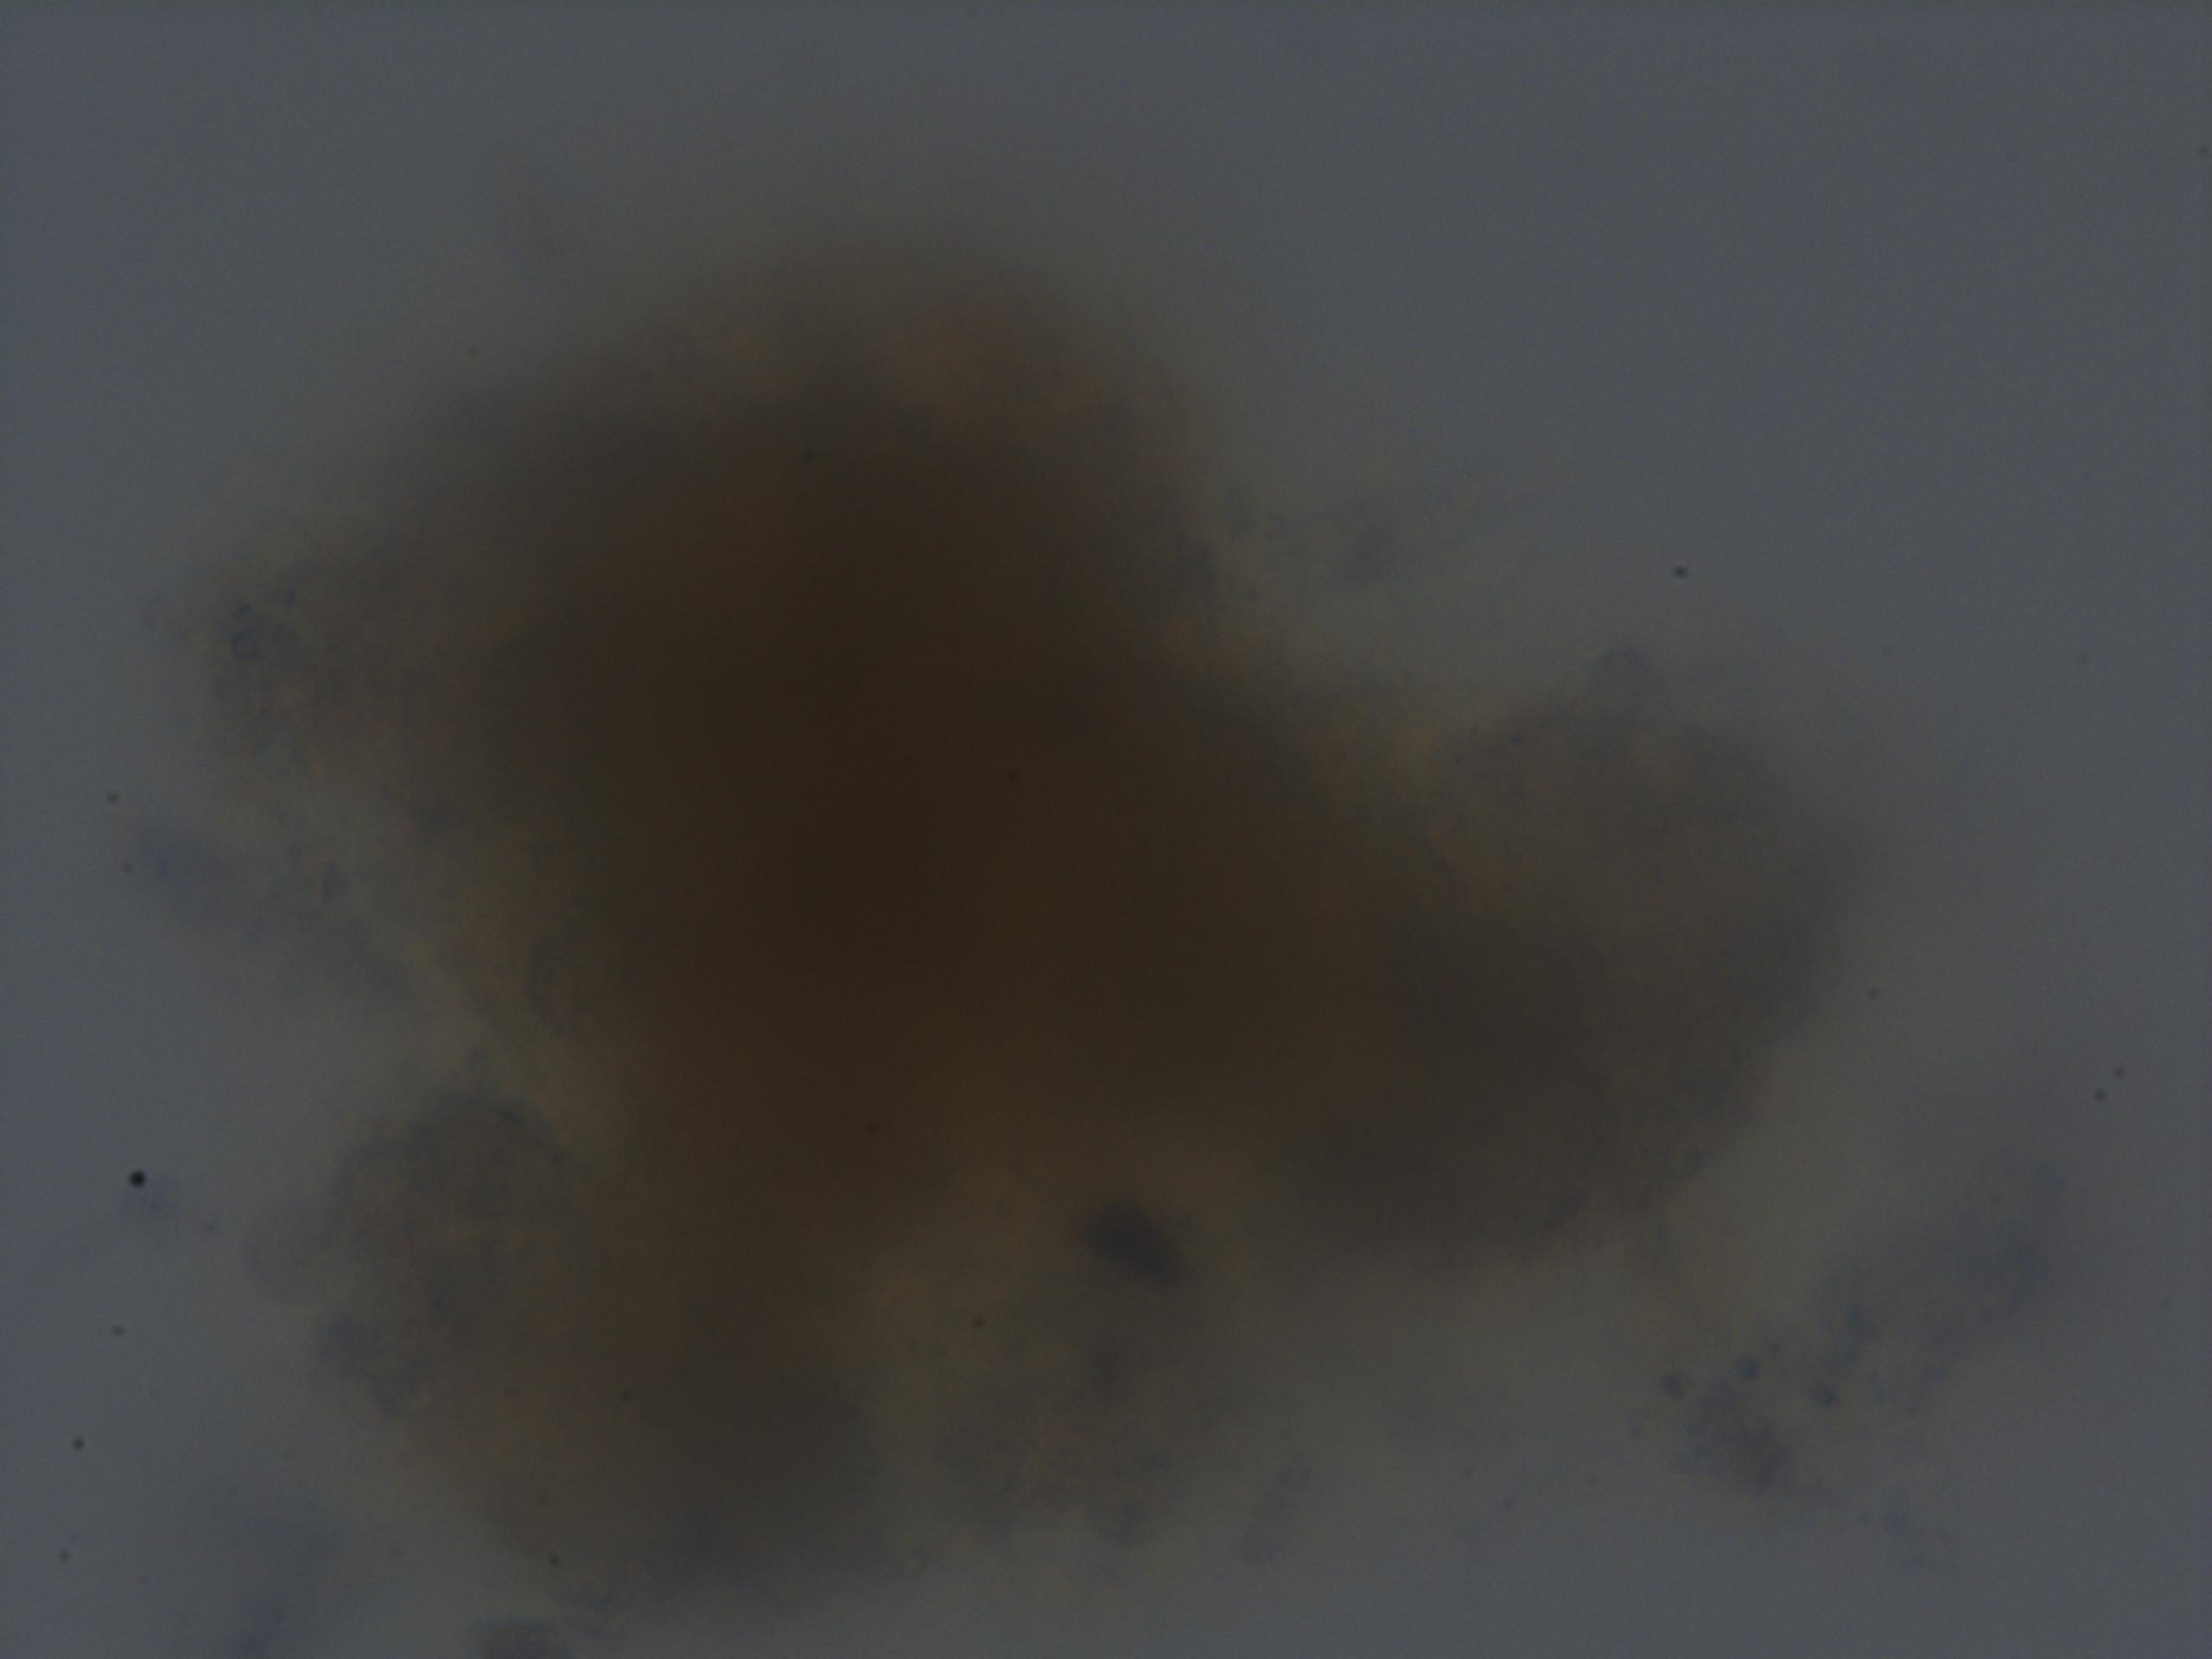spherical_floc: (219, 242, 1850, 1617)
